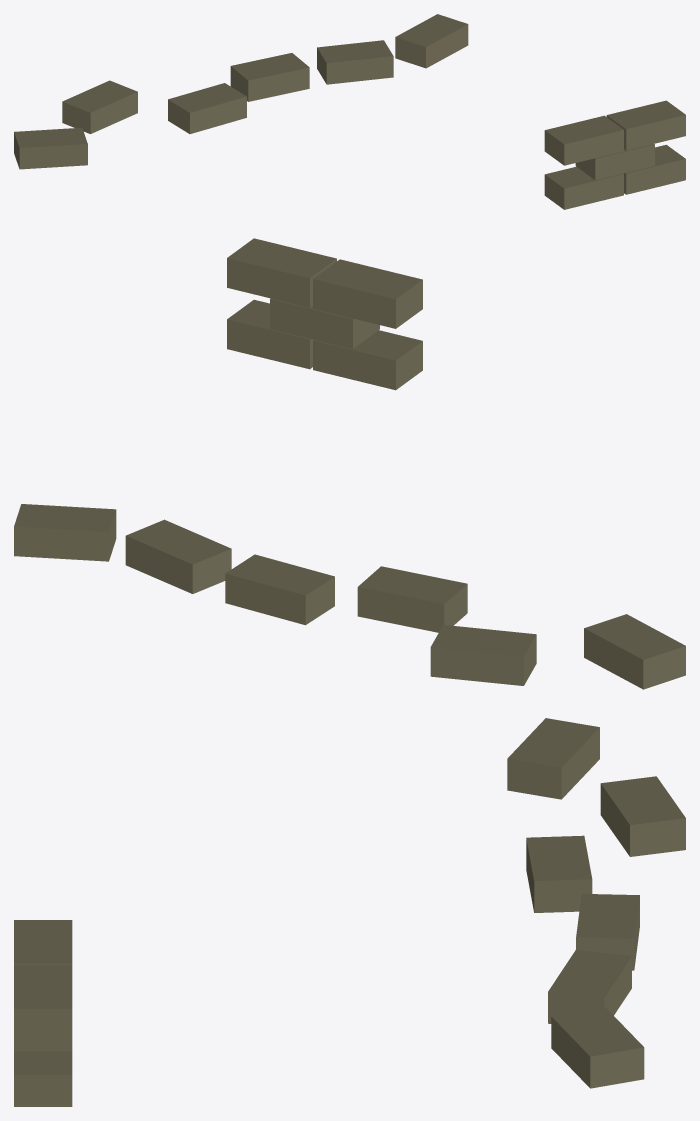
File: SM_ObraSacos_v1_10m_LOD1.fbx
3 views of the same model, one above another, from view 1: azimuth 30°, elevation 25°; view 2: azimuth 150°, elevation 25°; view 3: azimuth 270°, elevation 25° (orthographic). The views are drawn at different scales.
Parts seen in each view (by area): view 1: SM_obra_curso_v3_LOD1; view 2: SM_obra_curso_v3_LOD1; view 3: SM_obra_curso_v3_LOD1.
Boxes of the visible parts, box(x1,y1,x2,y2) form: SM_obra_curso_v3_LOD1: box(14, 14, 685, 209); SM_obra_curso_v3_LOD1: box(14, 238, 685, 689); SM_obra_curso_v3_LOD1: box(14, 718, 685, 1106).
Size of the model in its own units: 6.95 by 0.89 by 5.53.
